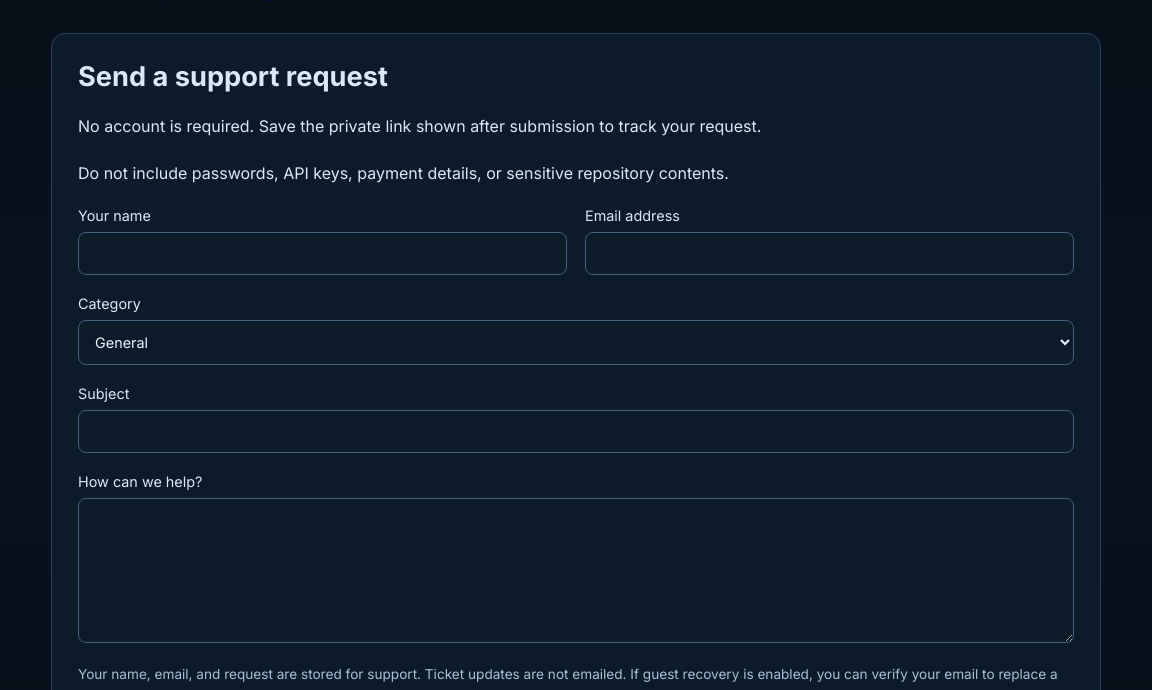
it: guest submission displays a private link and sends bounded form fields
Type "Person" into the field labelled "Your name" at (322, 254), box left=78, top=232, right=567, bottom=275
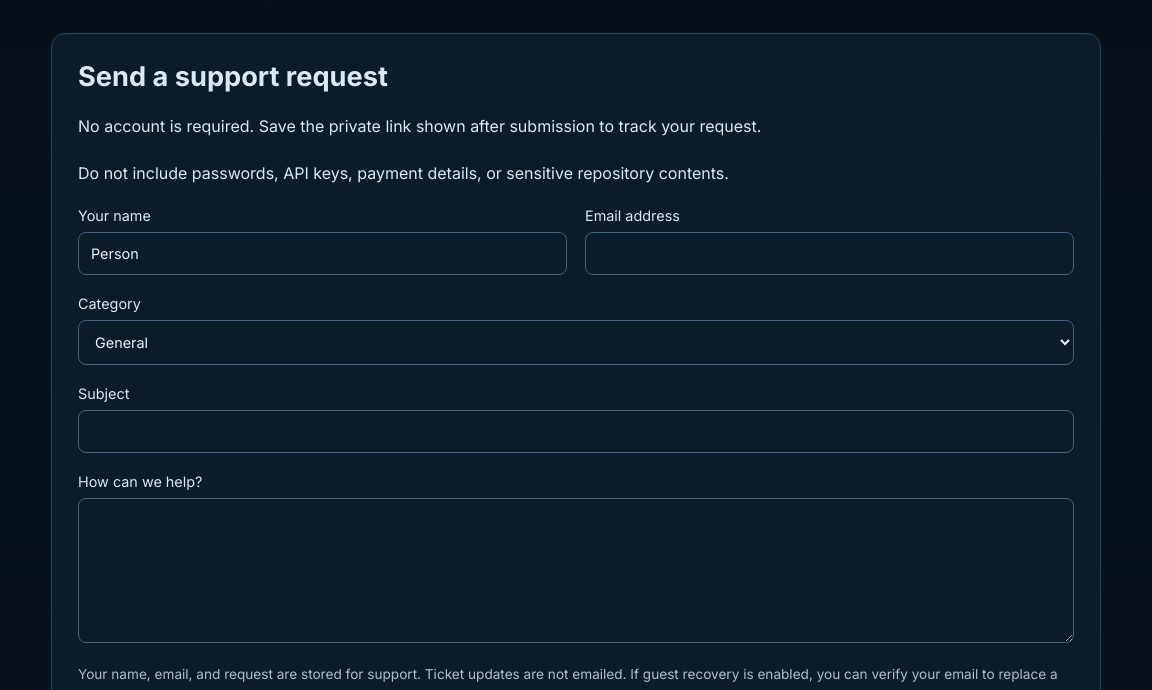
Type "a@example.com" into the field labelled "Email address" at (830, 254), box left=585, top=232, right=1074, bottom=275
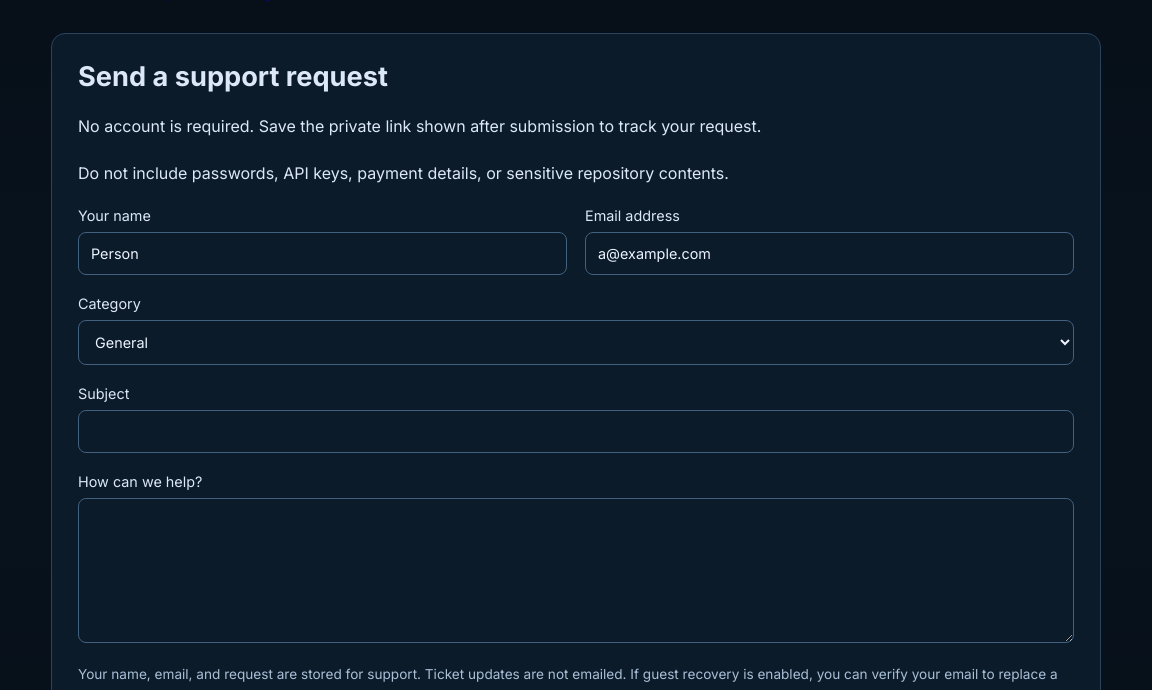
Type "Help with setup" into the field labelled "Subject" at (576, 432), box left=78, top=410, right=1074, bottom=453
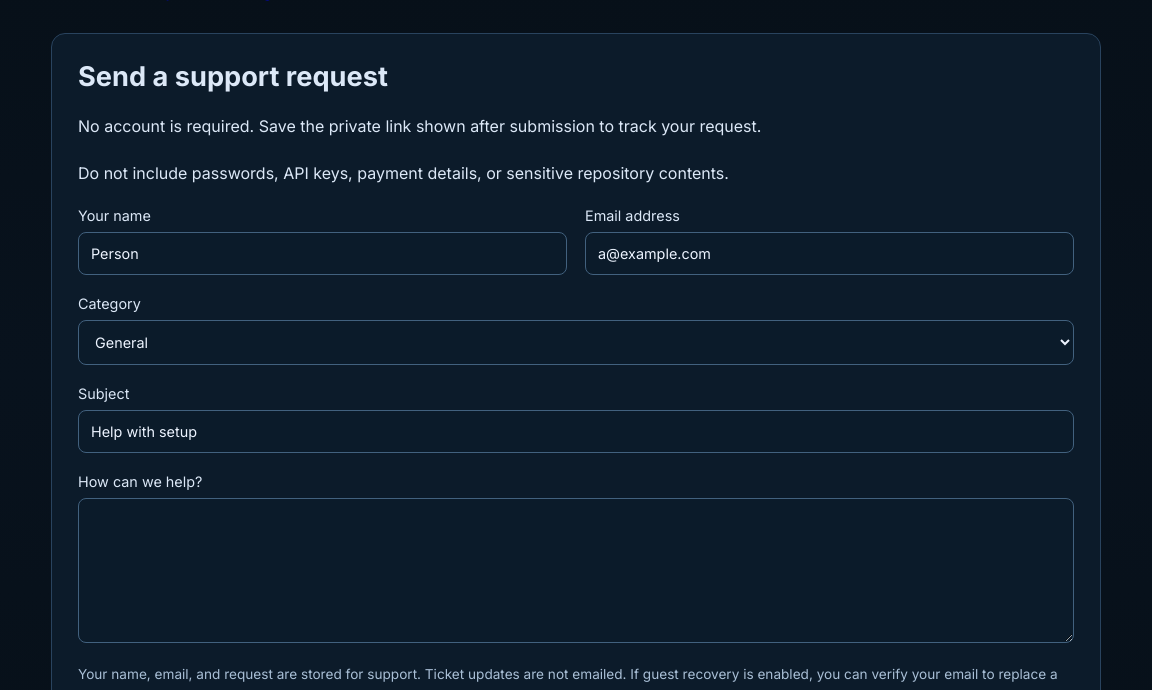
Type "Question" into the text box labelled "How can we help?" at (576, 571), box left=78, top=498, right=1074, bottom=643
(page scrolled)
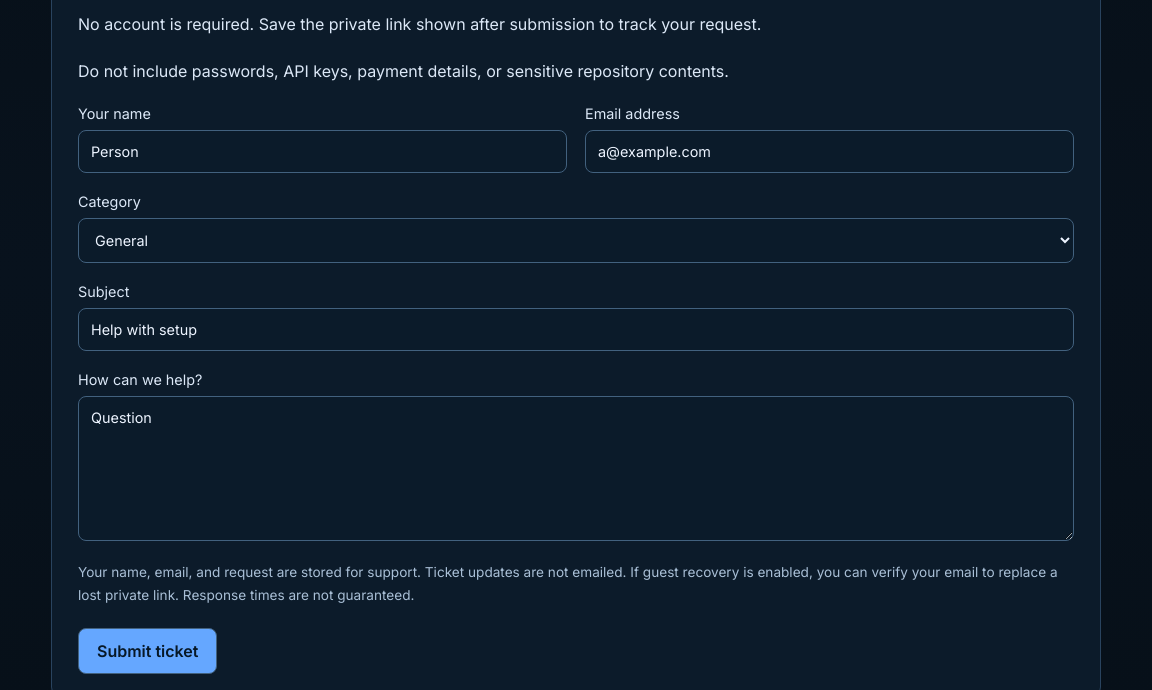
Click the button "Submit ticket" at (148, 651), box left=78, top=628, right=218, bottom=674
(page scrolled)
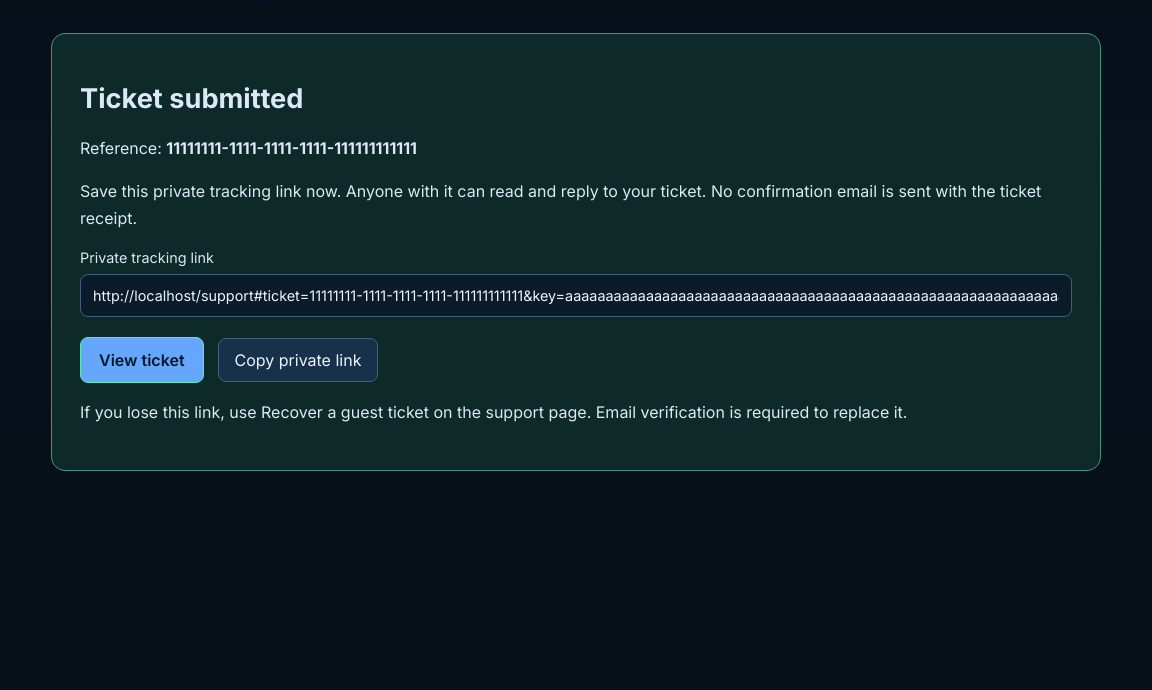
Expected: the heading "Ticket submitted" is shown, left=80, top=82, right=303, bottom=115
